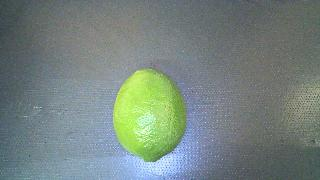EXPORTACION: (113, 69, 187, 162)
